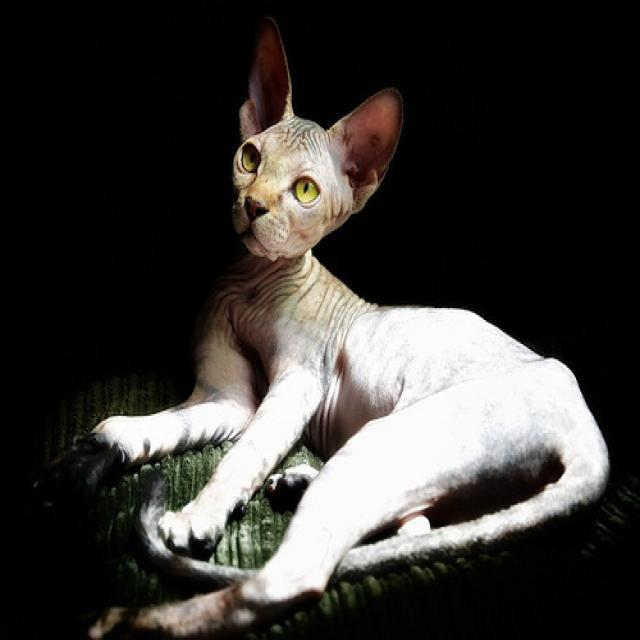Sphynx: (217, 0, 402, 287)
